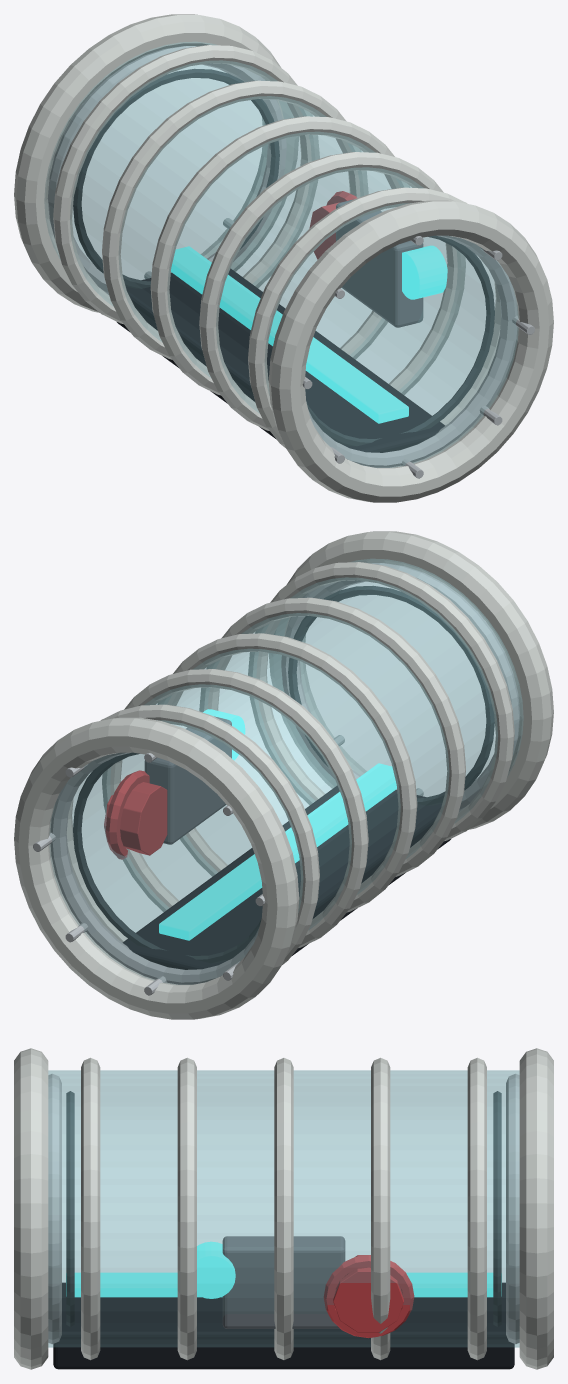
File: connector_aqualume-airlock-conduit-straight-standard-105.glb
The picture shows the model from 3 angles, top to bottom: view 1: azimuth 30°, elevation 25°; view 2: azimuth 150°, elevation 25°; view 3: azimuth 270°, elevation 25°; orthographic projection.
Visible parts, largest first — view 1: component__pressure_glass_conduit__pressure_glass_conduit, component__start_docking_collar__start_docking_collar, component__end_docking_collar__end_docking_collar, component__load_bearing_pressure_hoops__pressure_hoop.002, component__load_bearing_pressure_hoops__pressure_hoop, component__service_spine__service_spine, component__load_bearing_pressure_hoops__pressure_hoop.003, component__load_bearing_pressure_hoops__pressure_hoop.004, component__load_bearing_pressure_hoops__pressure_hoop.001, component__illuminated_floor_guide__illuminated_floor_guide, component__compression_flanges__start_compression_flange, component__compression_flanges__end_compression_flange (+4 smaller); view 2: component__pressure_glass_conduit__pressure_glass_conduit, component__end_docking_collar__end_docking_collar, component__start_docking_collar__start_docking_collar, component__load_bearing_pressure_hoops__pressure_hoop.001, component__load_bearing_pressure_hoops__pressure_hoop.004, component__service_spine__service_spine, component__load_bearing_pressure_hoops__pressure_hoop.003, component__load_bearing_pressure_hoops__pressure_hoop.002, component__load_bearing_pressure_hoops__pressure_hoop, component__illuminated_floor_guide__illuminated_floor_guide, component__compression_flanges__end_compression_flange, component__compression_flanges__start_compression_flange (+5 smaller); view 3: component__pressure_glass_conduit__pressure_glass_conduit, component__service_spine__service_spine, component__end_docking_collar__end_docking_collar, component__start_docking_collar__start_docking_collar, component__service_hatch__service_hatch, component__load_bearing_pressure_hoops__pressure_hoop.002, component__load_bearing_pressure_hoops__pressure_hoop.001, component__load_bearing_pressure_hoops__pressure_hoop, component__load_bearing_pressure_hoops__pressure_hoop.003, component__load_bearing_pressure_hoops__pressure_hoop.004, component__illuminated_floor_guide__illuminated_floor_guide, component__compression_flanges__end_compression_flange (+6 smaller).
Boxes of the visible parts, x1,y1,x2,y2 form: component__pressure_glass_conduit__pressure_glass_conduit: [44, 42, 518, 467]; component__start_docking_collar__start_docking_collar: [268, 200, 553, 502]; component__end_docking_collar__end_docking_collar: [14, 14, 299, 312]; component__load_bearing_pressure_hoops__pressure_hoop.002: [199, 152, 465, 430]; component__load_bearing_pressure_hoops__pressure_hoop: [53, 45, 319, 323]; component__service_spine__service_spine: [117, 268, 445, 452]; component__load_bearing_pressure_hoops__pressure_hoop.003: [150, 116, 410, 395]; component__load_bearing_pressure_hoops__pressure_hoop.004: [102, 80, 368, 359]; component__load_bearing_pressure_hoops__pressure_hoop.001: [248, 187, 501, 447]; component__illuminated_floor_guide__illuminated_floor_guide: [171, 246, 408, 423]; component__compression_flanges__start_compression_flange: [308, 235, 517, 467]; component__compression_flanges__end_compression_flange: [47, 46, 286, 294]; component__pressure_glass_conduit__pressure_glass_conduit: [49, 559, 523, 984]; component__end_docking_collar__end_docking_collar: [14, 717, 299, 1019]; component__start_docking_collar__start_docking_collar: [268, 531, 553, 829]; component__load_bearing_pressure_hoops__pressure_hoop.001: [248, 562, 514, 840]; component__load_bearing_pressure_hoops__pressure_hoop.004: [102, 669, 368, 947]; component__service_spine__service_spine: [122, 785, 450, 969]; component__load_bearing_pressure_hoops__pressure_hoop.003: [157, 633, 417, 912]; component__load_bearing_pressure_hoops__pressure_hoop.002: [199, 597, 465, 876]; component__load_bearing_pressure_hoops__pressure_hoop: [66, 704, 319, 964]; component__illuminated_floor_guide__illuminated_floor_guide: [159, 763, 396, 940]; component__compression_flanges__end_compression_flange: [50, 752, 259, 984]; component__compression_flanges__start_compression_flange: [281, 563, 520, 811]; component__pressure_glass_conduit__pressure_glass_conduit: [48, 1070, 519, 1347]; component__service_spine__service_spine: [53, 1282, 514, 1369]; component__end_docking_collar__end_docking_collar: [519, 1048, 553, 1369]; component__start_docking_collar__start_docking_collar: [14, 1048, 48, 1369]; component__service_hatch__service_hatch: [222, 1236, 345, 1328]; component__load_bearing_pressure_hoops__pressure_hoop.002: [177, 1057, 196, 1360]; component__load_bearing_pressure_hoops__pressure_hoop.001: [81, 1057, 100, 1360]; component__load_bearing_pressure_hoops__pressure_hoop: [467, 1057, 486, 1360]; component__load_bearing_pressure_hoops__pressure_hoop.003: [274, 1058, 293, 1359]; component__load_bearing_pressure_hoops__pressure_hoop.004: [371, 1057, 390, 1360]; component__illuminated_floor_guide__illuminated_floor_guide: [66, 1272, 501, 1297]; component__compression_flanges__end_compression_flange: [506, 1073, 519, 1344].
Bounding box in the file's own units: 3.19 × 3.19 × 5.36.
